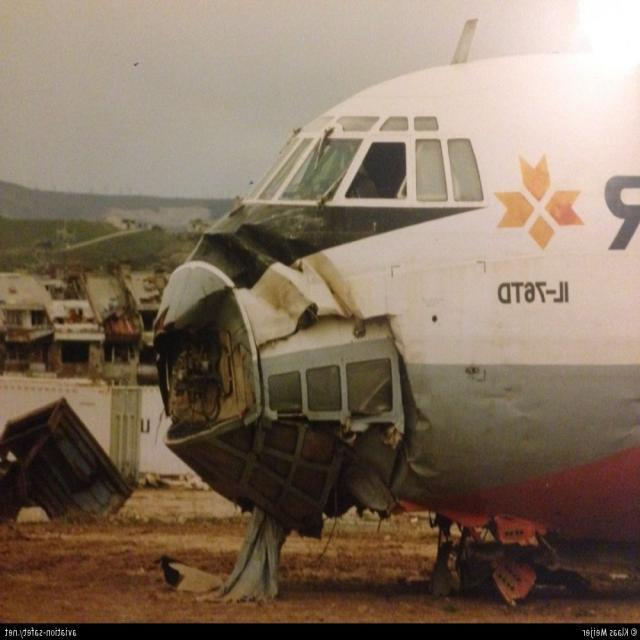dent: (410, 414, 449, 480)
